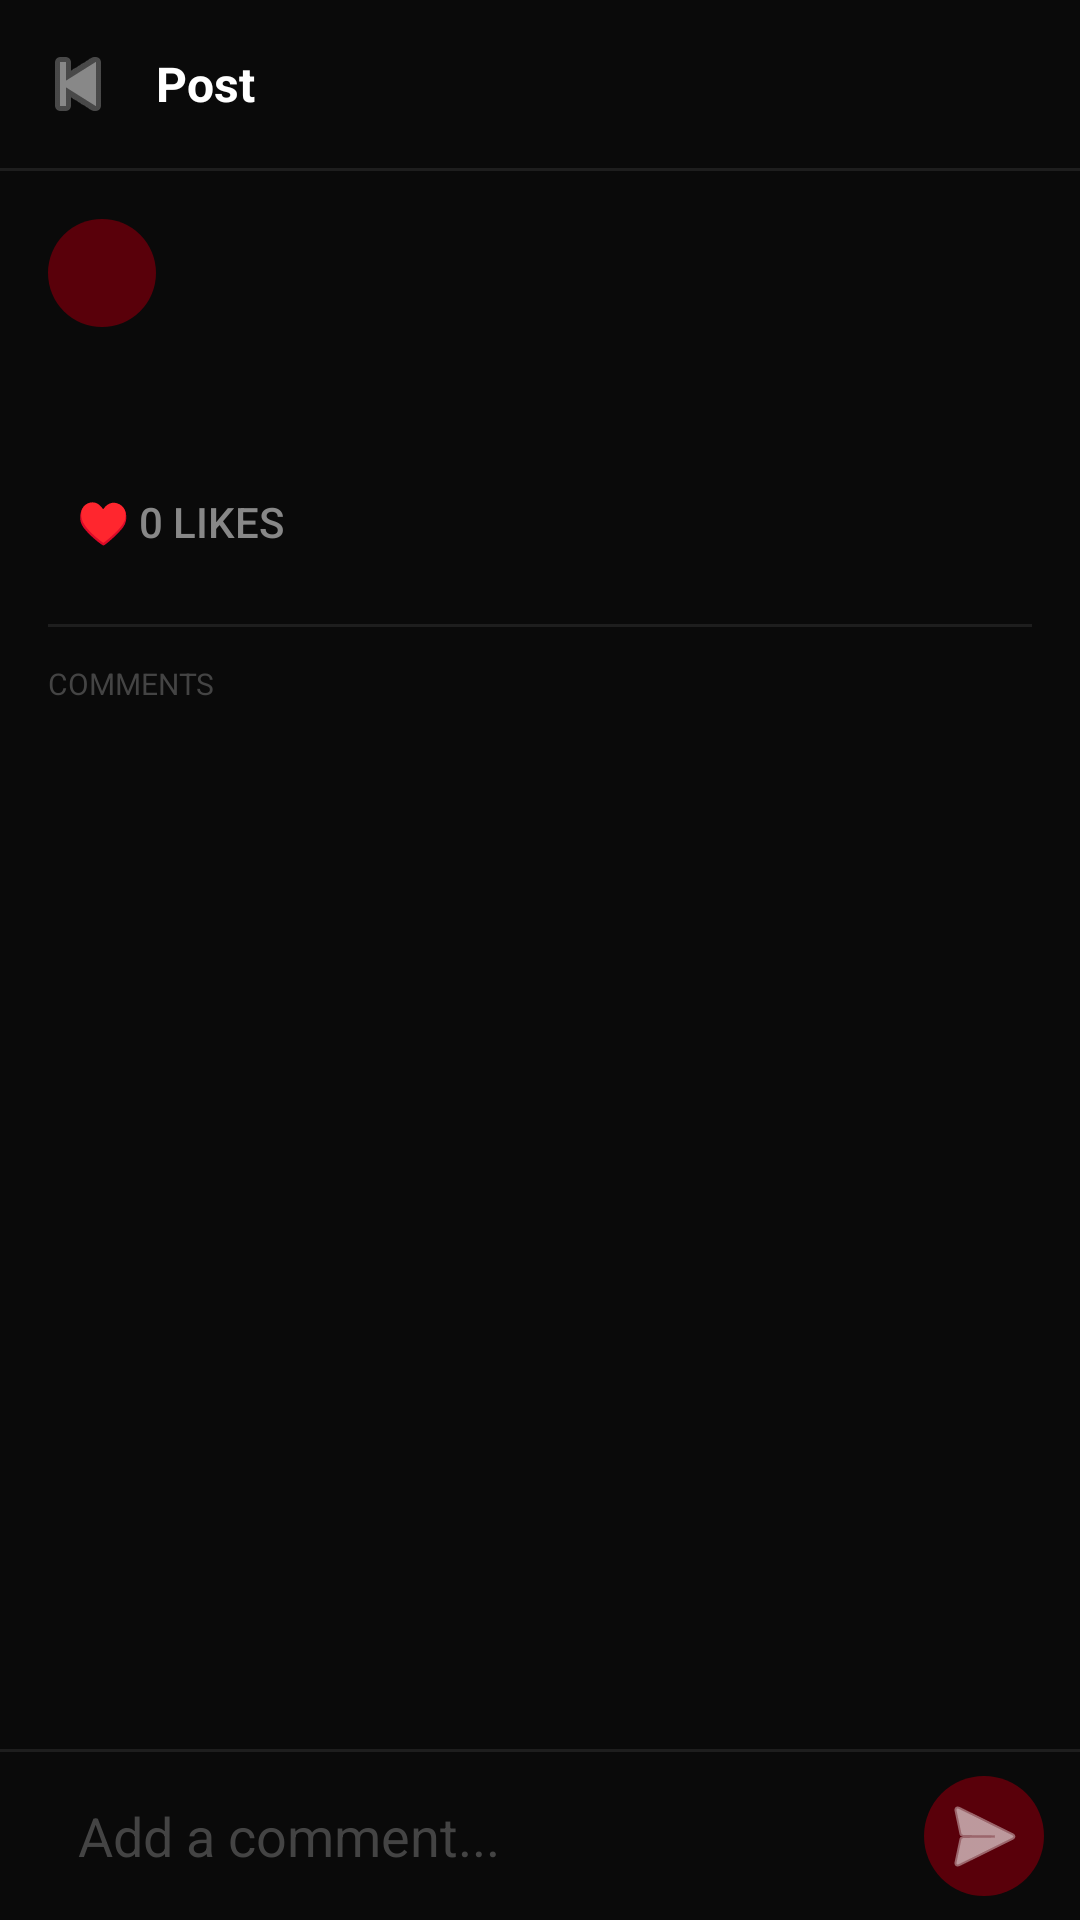

Where to tap for icons on this 1080*1920 app screen, as [x,y]:
previous: [78,84]
send: [984,1836]
